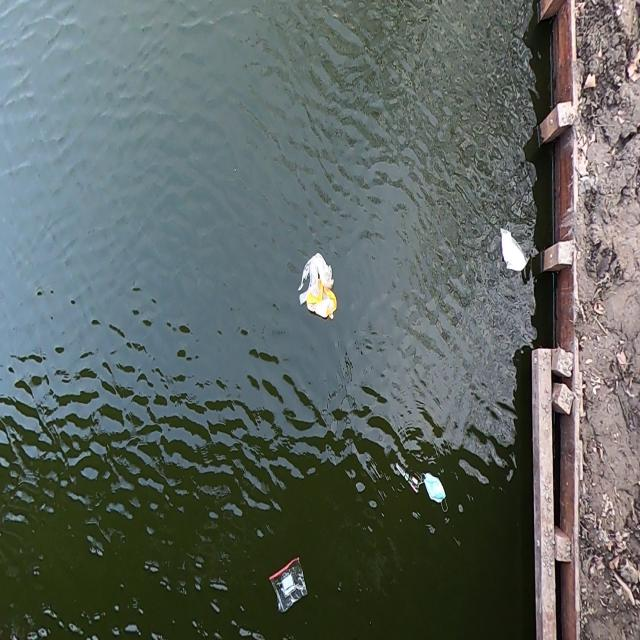Non plastique: (413, 462, 453, 520)
Sac plastique: (258, 551, 314, 618), (496, 220, 530, 280), (297, 244, 337, 289), (295, 288, 342, 324)
